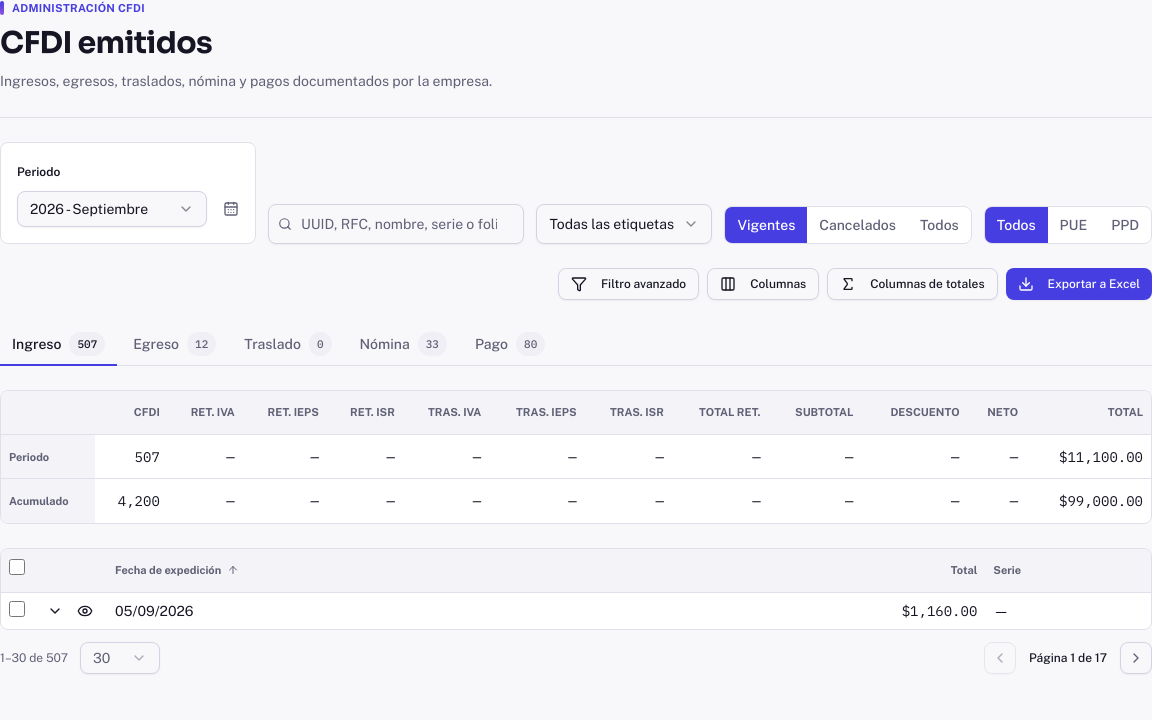
it: CfdiPantalla › columnas, filtro avanzado y exportación (F3.4) › aplicar el filtro avanzado lo escribe en la URL y el botón cuenta los activos
Later steps or results of the test are not shown.
Step 1. Click the button "Filtro avanzado" → (629, 284), box [558,268,699,300]
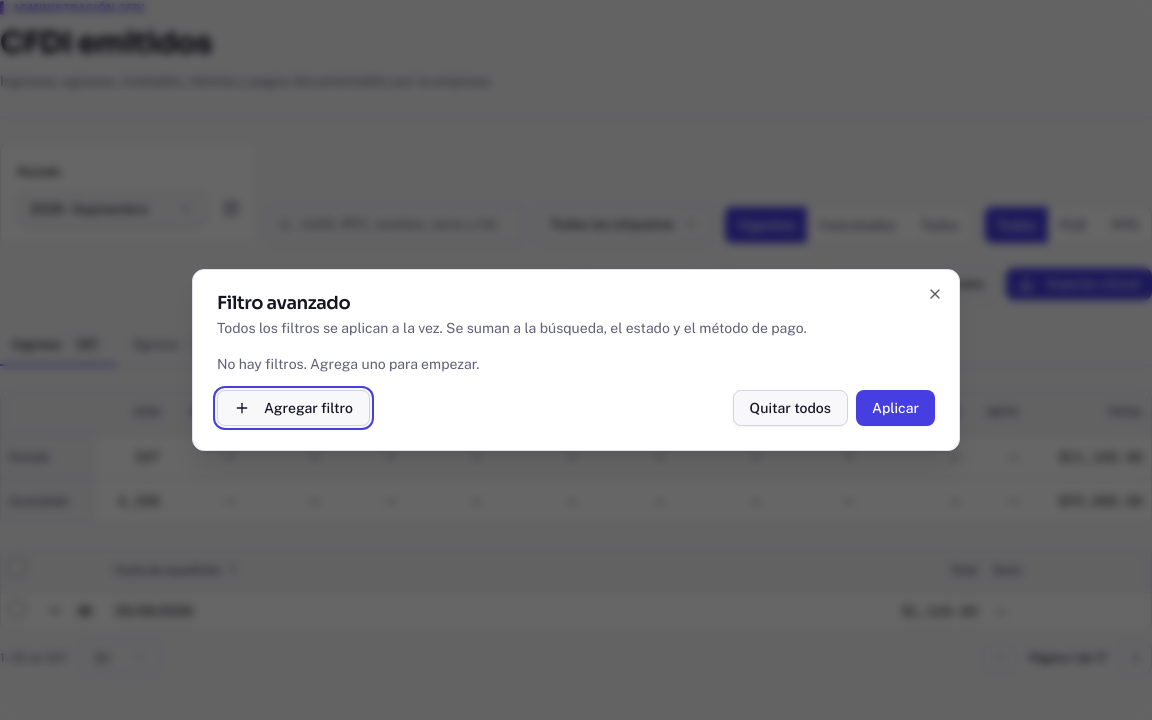
Step 2. Click the button "Agregar filtro" → (294, 408), box [217,390,370,426]
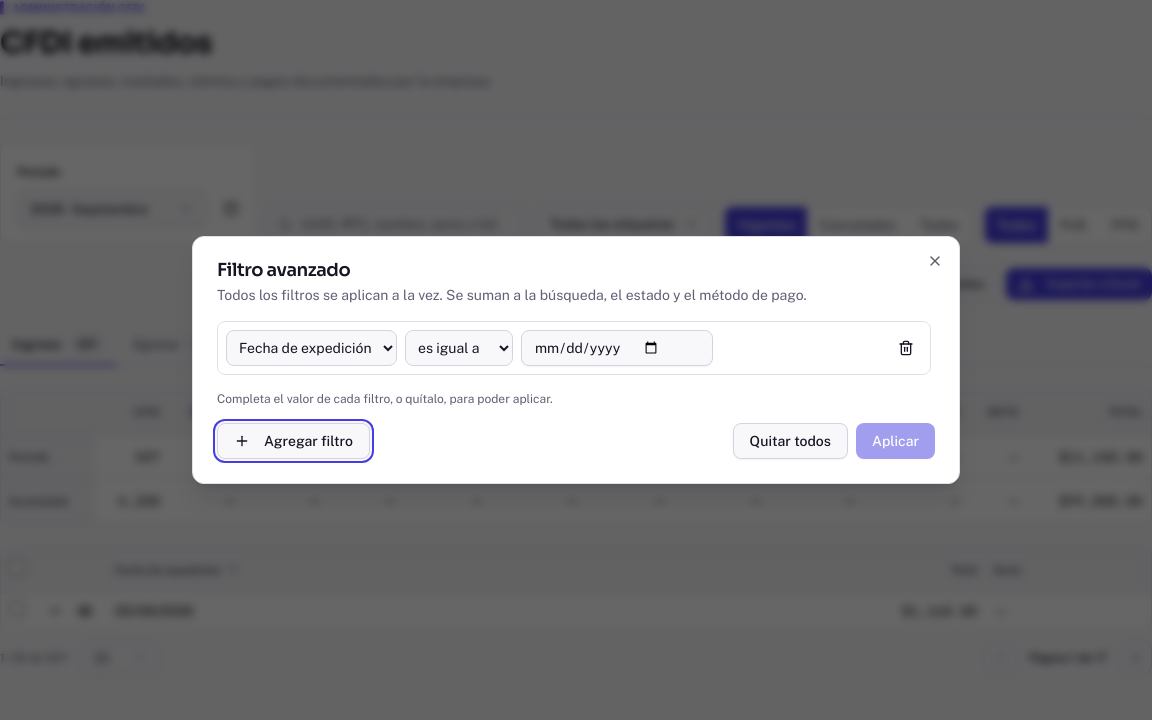
Step 3. Select "Total" in the dropdown named "Campo" → (312, 348), box [226,330,397,366]
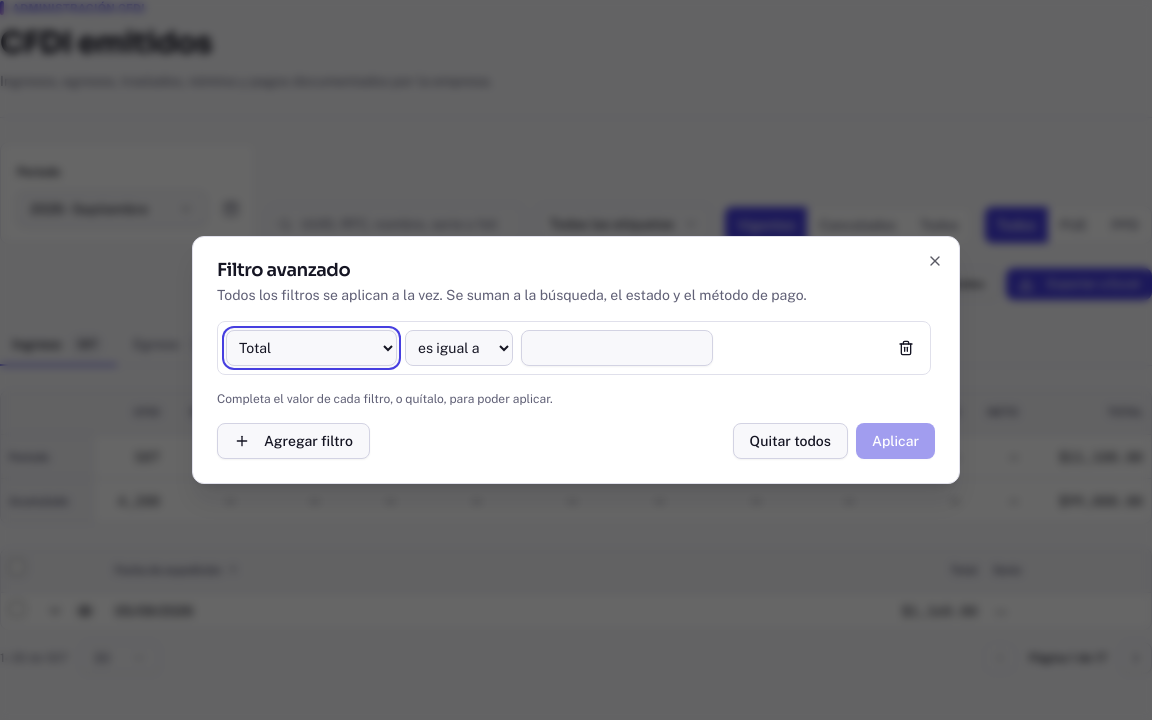
Step 4. Select "mayor que" in the dropdown named "Operador" → (459, 348), box [405,330,513,366]
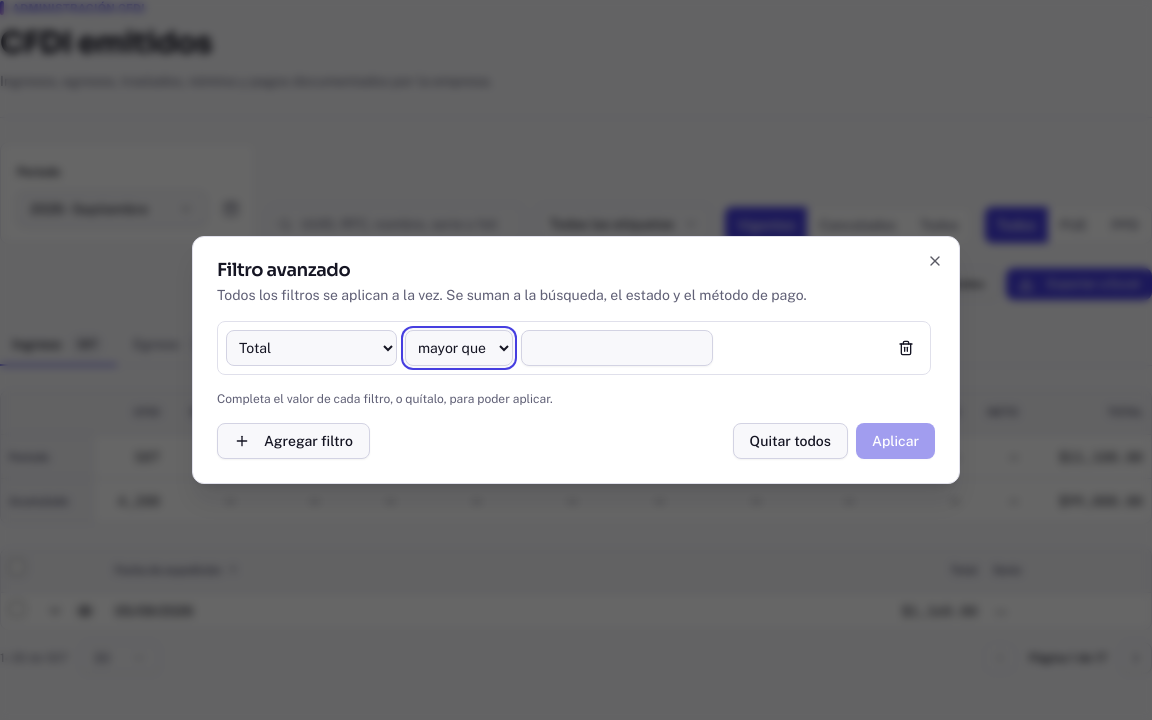
Expected: the button "Aplicar" is disabled, [856,423,935,459]
